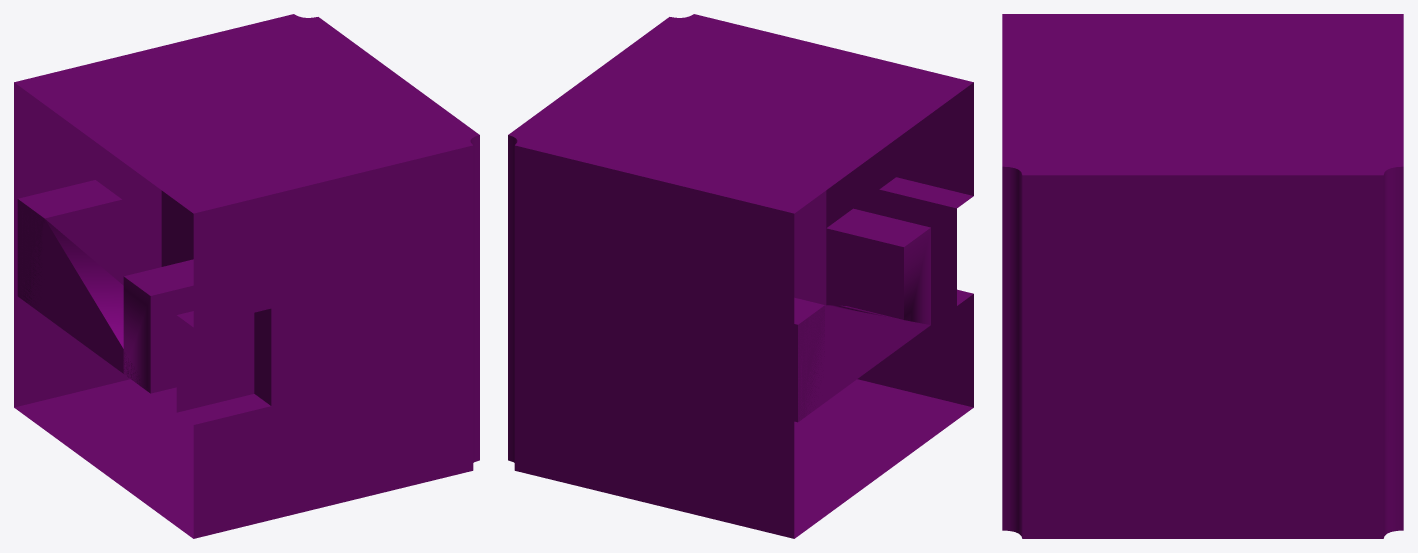
The model's file is Building_04_C_B.fbx.
3 views of the same model, side by side, from view 1: azimuth 30°, elevation 25°; view 2: azimuth 150°, elevation 25°; view 3: azimuth 270°, elevation 25° (orthographic). The views are drawn at different scales.
Parts seen in each view (by area): view 1: 3, 1, 4, 2; view 2: 4, 3, 2, 1; view 3: 1, 2, 3, 4.
Part boxes in pixels (x1=…): 3: x1=17, y1=112, x2=341, y2=538; 1: x1=252, y1=76, x2=479, y2=502; 4: x1=14, y1=46, x2=250, y2=472; 2: x1=161, y1=14, x2=398, y2=266; 4: x1=646, y1=112, x2=883, y2=538; 3: x1=737, y1=46, x2=973, y2=472; 2: x1=508, y1=76, x2=735, y2=502; 1: x1=589, y1=14, x2=826, y2=304; 1: x1=1002, y1=94, x2=1202, y2=538; 2: x1=1203, y1=94, x2=1403, y2=538; 3: x1=1002, y1=14, x2=1202, y2=94; 4: x1=1203, y1=14, x2=1403, y2=94.
Size of the model in its own units: 190 by 200 by 200.
